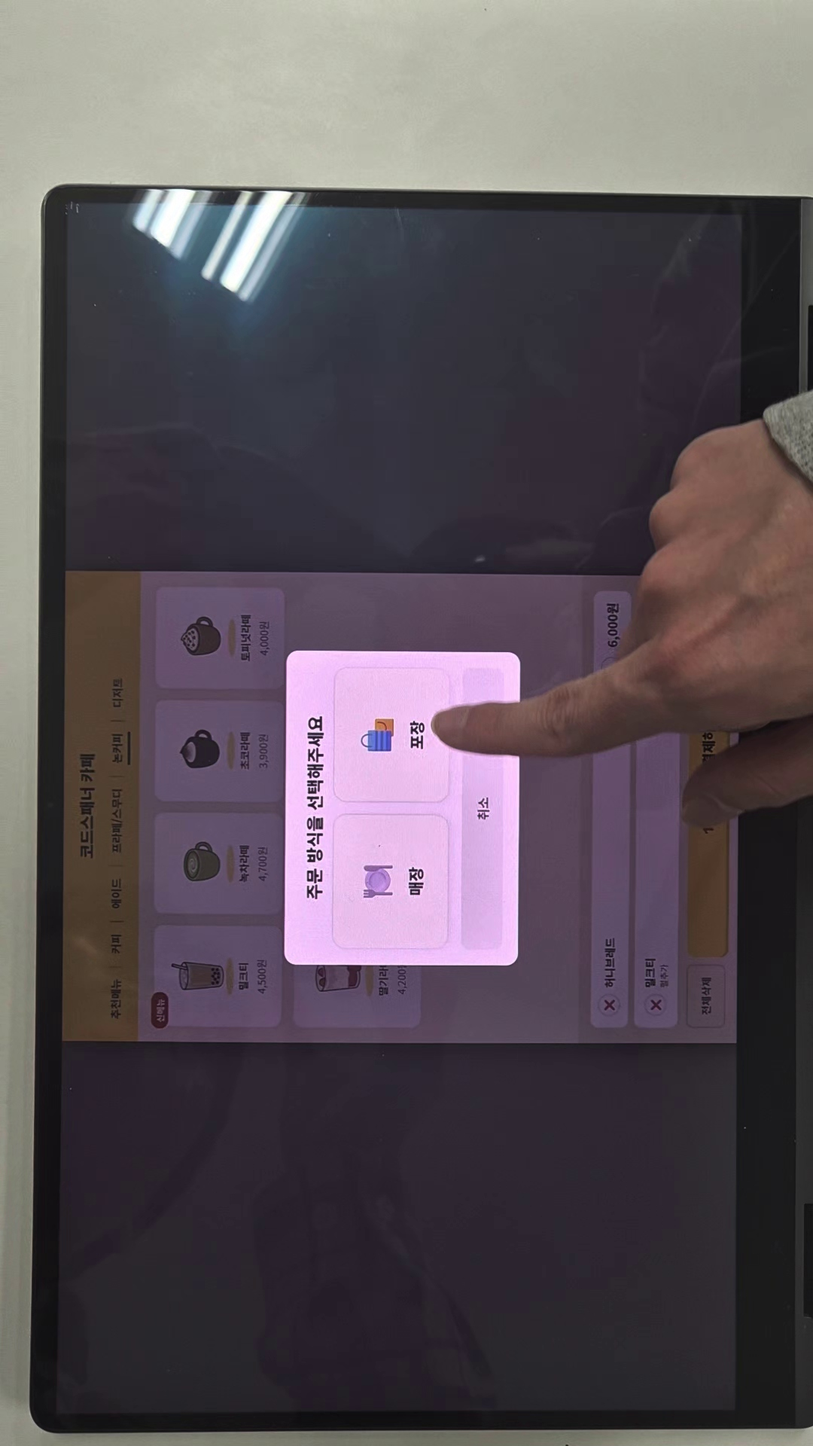action_button: (464, 669, 501, 948)
option_button: (333, 812, 446, 950), (335, 669, 450, 802)
popup_modal: (288, 652, 519, 966)
